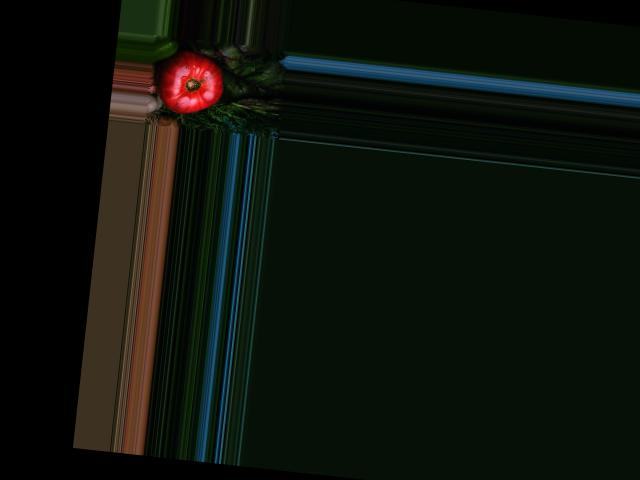tomato: (151, 45, 226, 117)
